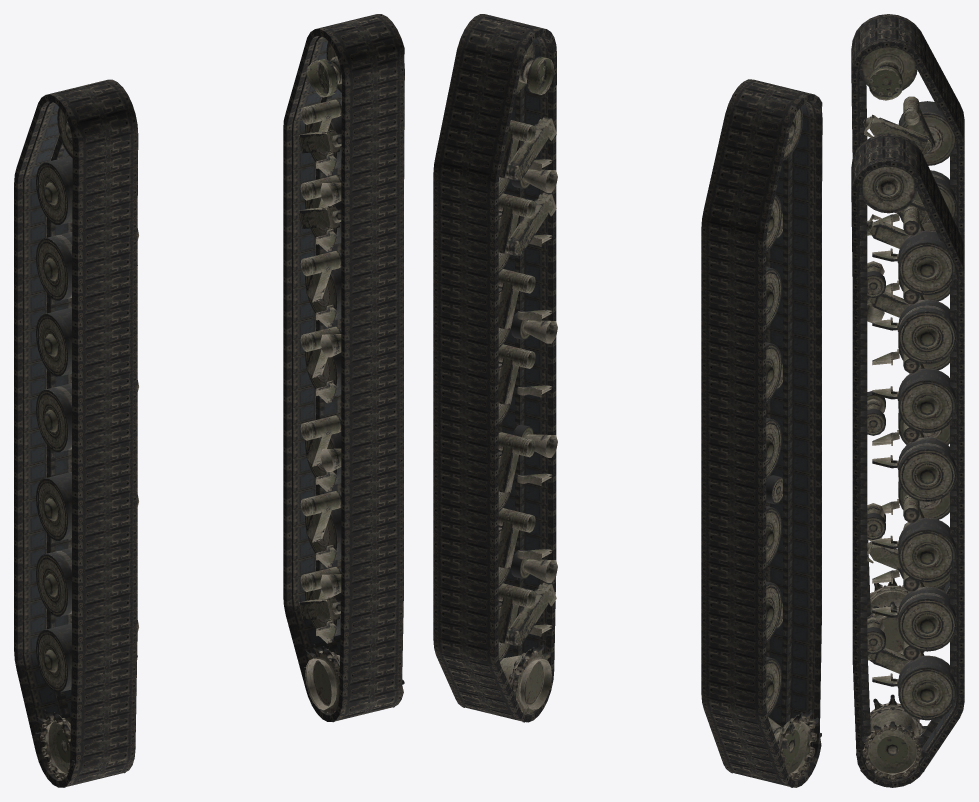
Rendered from Chassis.glb.
3 renders of one model, left to right at view 1: azimuth 30°, elevation 25°; view 2: azimuth 150°, elevation 25°; view 3: azimuth 270°, elevation 25°, orthographic. The views are drawn at different scales.
Visible parts, largest first — view 1: set_0_group_0, set_1_group_0, set_3_group_0, set_2_group_0; view 2: set_0_group_0, set_1_group_0, set_3_group_0, set_2_group_0; view 3: set_3_group_0, set_1_group_0, set_2_group_0, set_0_group_0.
Boxes of the visible parts, x1,y1,x2,y2 form: set_0_group_0: (14,79,138,787); set_1_group_0: (283,14,404,721); set_3_group_0: (298,41,404,722); set_2_group_0: (35,107,138,787); set_0_group_0: (701,79,822,787); set_1_group_0: (433,14,556,722); set_3_group_0: (455,41,557,722); set_2_group_0: (723,106,821,787); set_3_group_0: (856,166,956,787); set_1_group_0: (851,133,964,787); set_2_group_0: (859,47,956,664); set_0_group_0: (851,14,964,665).
Bounding box in the file's own units: 3.48 × 6.92 × 1.13.
4 materials, 4 textured.
